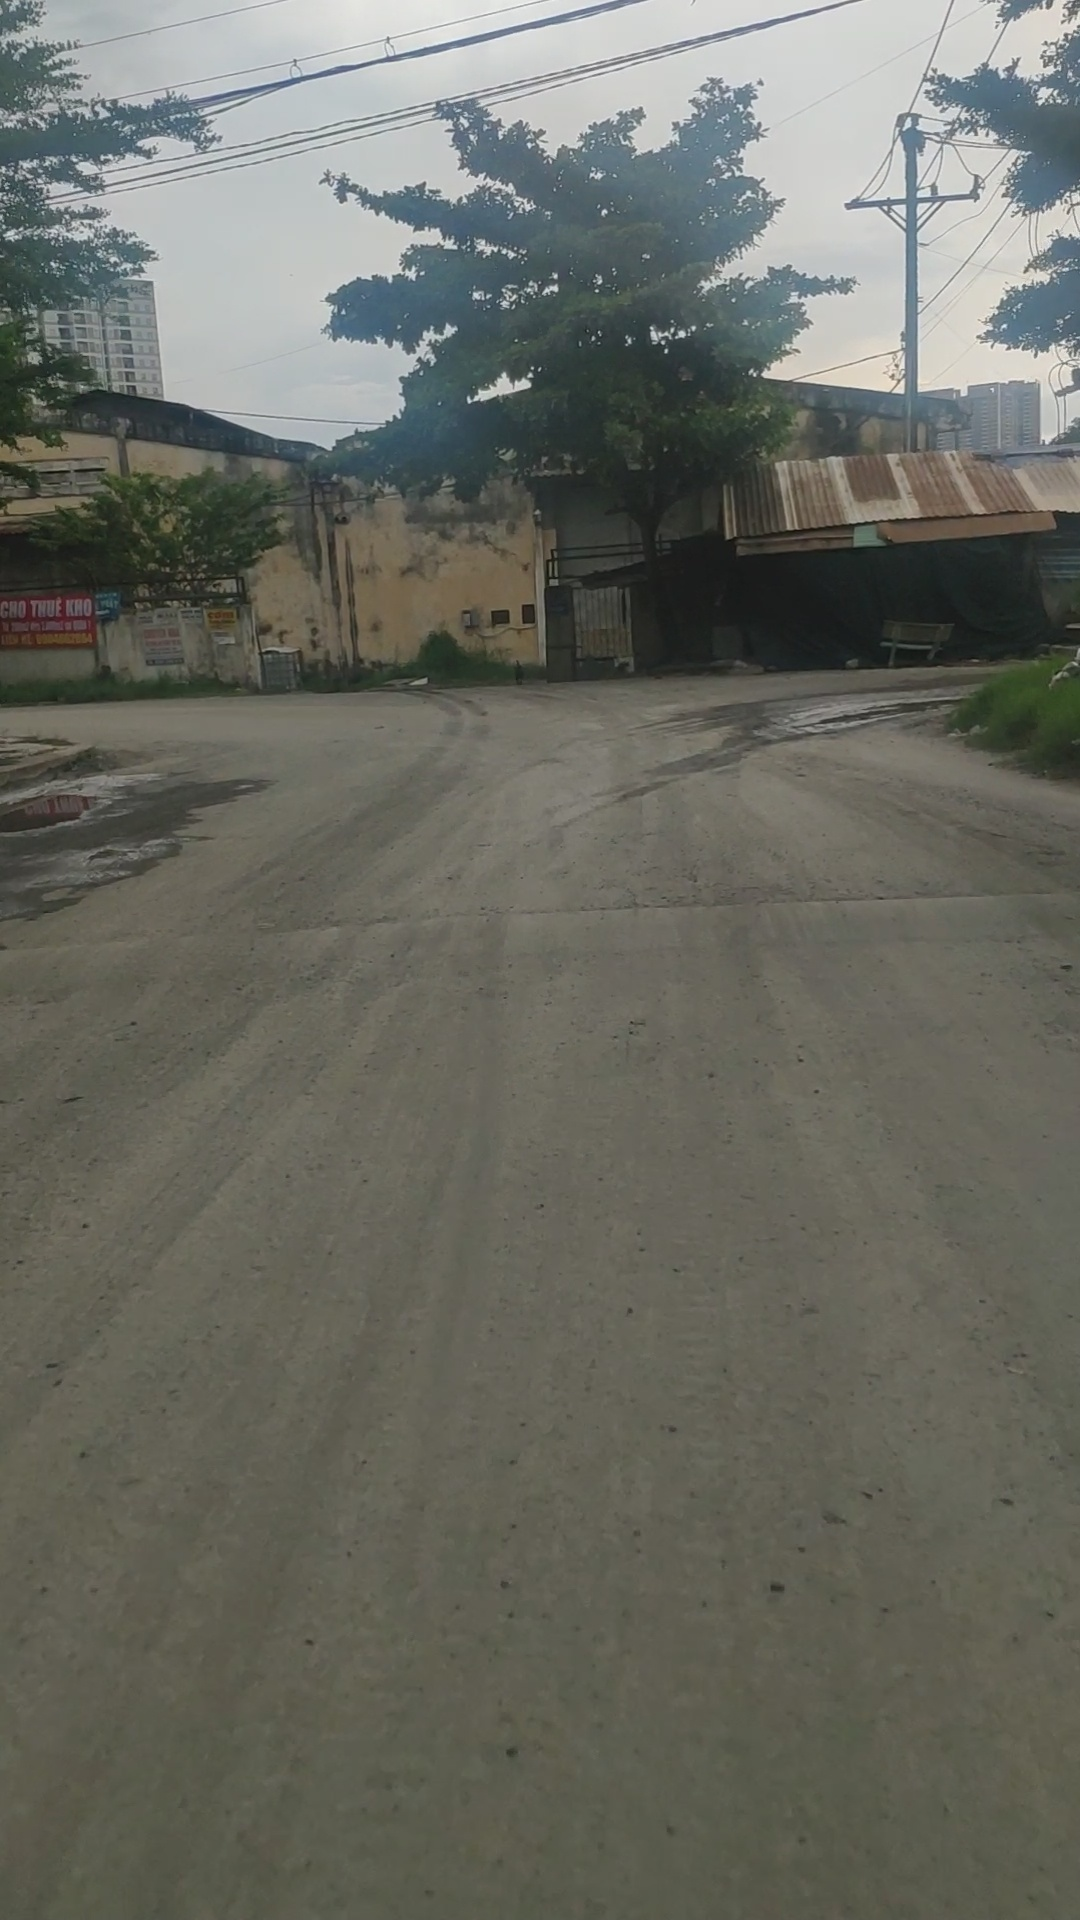hole: (76, 840, 149, 869)
